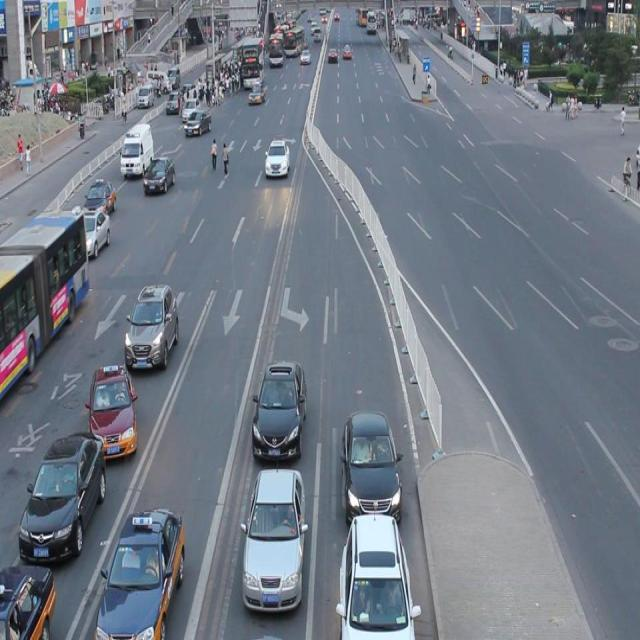car: (93, 498, 186, 640), (19, 427, 106, 558), (337, 505, 417, 640), (241, 458, 306, 606), (342, 401, 403, 519), (250, 353, 308, 456), (123, 276, 180, 366), (88, 358, 139, 456), (0, 554, 56, 640), (80, 208, 112, 258), (83, 180, 116, 221), (143, 154, 176, 193), (264, 139, 291, 177)
truck: (120, 122, 154, 178)
van: (0, 209, 89, 397)
